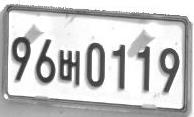0: (85, 41, 105, 88)
1: (110, 44, 133, 89), (135, 45, 155, 91)
6: (35, 38, 56, 83)
9: (159, 47, 180, 93), (11, 35, 32, 80)
버: (59, 49, 80, 85)
